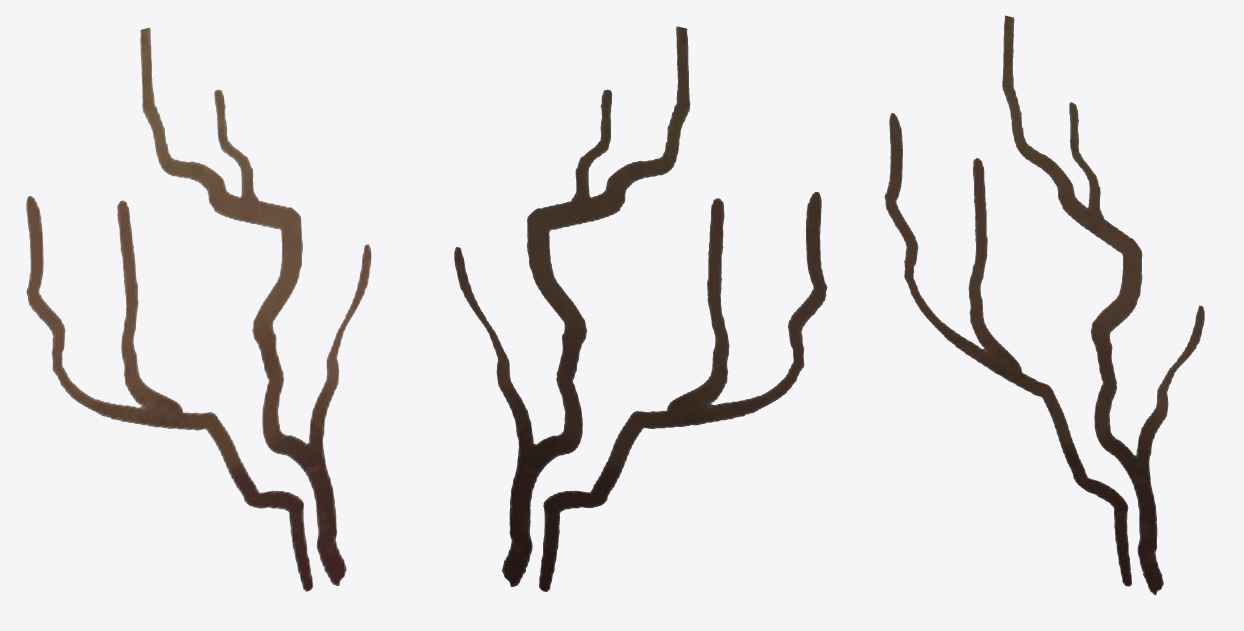
Rendered from branch1.fbx.
3 views of the same model, side by side, from view 1: azimuth 30°, elevation 25°; view 2: azimuth 150°, elevation 25°; view 3: azimuth 330°, elevation 25° (orthographic). The views are drawn at different scales.
Parts seen in each view (by area): view 1: branch1; view 2: branch1; view 3: branch1.
Boxes of the visible parts, left/top/right/bottom form: branch1: left=26, top=27, right=371, bottom=591; branch1: left=454, top=26, right=827, bottom=591; branch1: left=884, top=15, right=1204, bottom=595.
Size of the model in its own units: 506 by 755 by 40.95.
